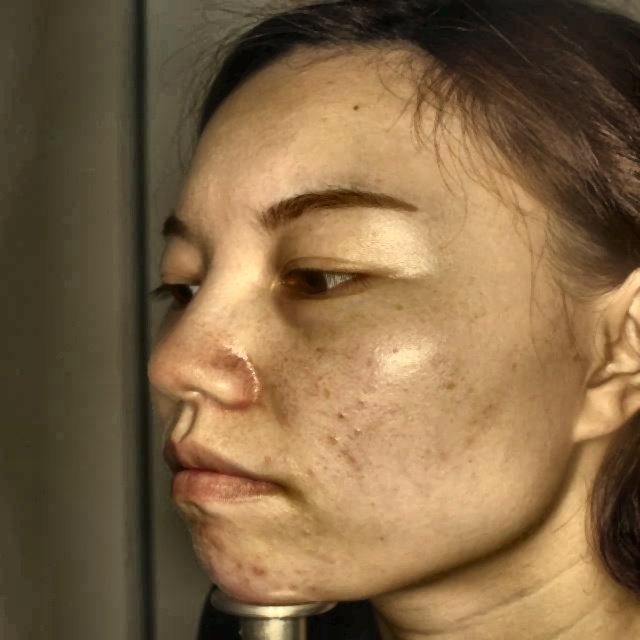comedone: (191, 526, 226, 553), (244, 559, 274, 580)
